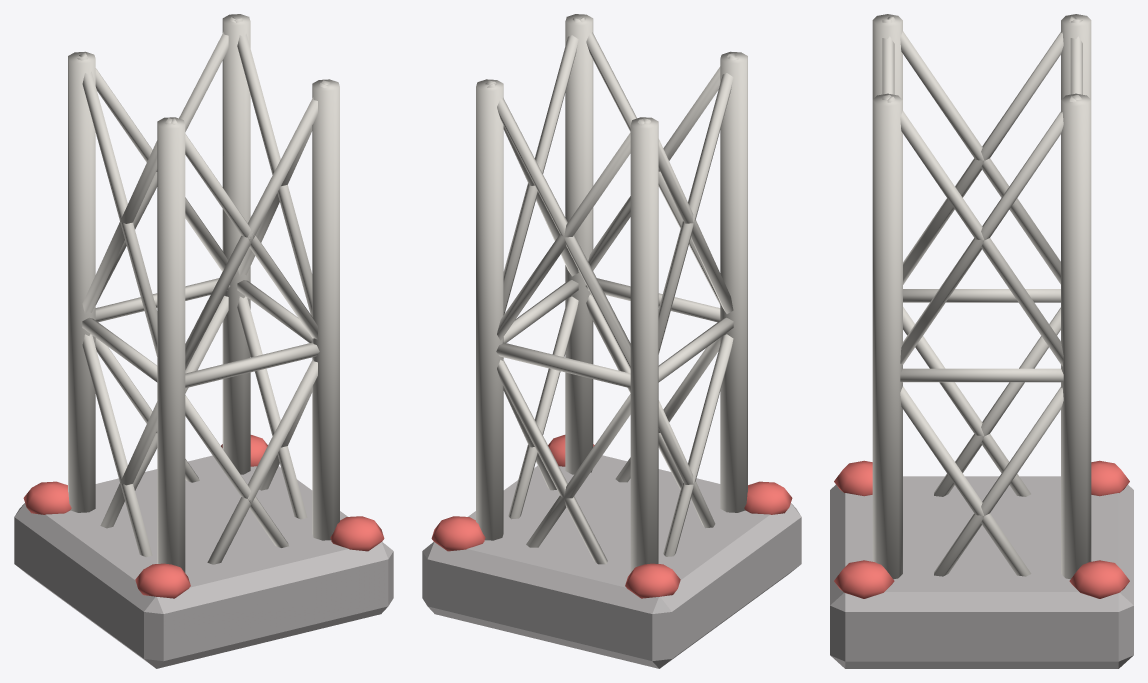
The model's file is coastertruss.glb.
3 renders of one model, left to right at view 1: azimuth 30°, elevation 25°; view 2: azimuth 150°, elevation 25°; view 3: azimuth 270°, elevation 25°, orthographic. The views are drawn at different scales.
Visible parts, largest first — view 1: CT_truss, CT_foot, CT_cap; view 2: CT_truss, CT_foot, CT_cap; view 3: CT_truss, CT_foot, CT_cap.
Part boxes in pixels (x1,y1,x2,y2): CT_truss: (68, 14, 339, 572); CT_foot: (14, 455, 393, 668); CT_cap: (23, 435, 384, 598); CT_truss: (476, 14, 747, 572); CT_foot: (422, 455, 801, 668); CT_cap: (431, 435, 792, 598); CT_truss: (872, 14, 1091, 579); CT_foot: (830, 476, 1133, 668); CT_cap: (834, 460, 1129, 598).
Bounding box in the file's own units: 2 × 4.05 × 2.
